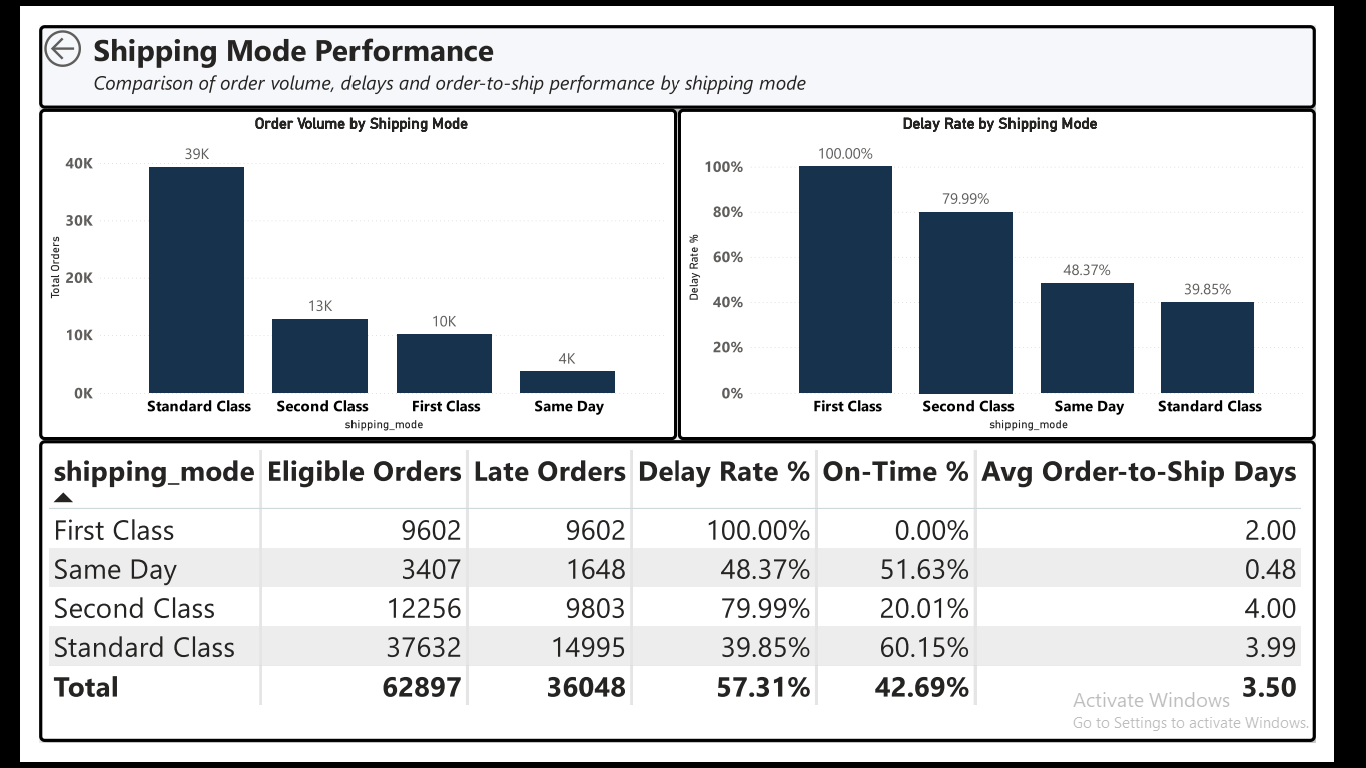

The dashboard page shown, as its layout file describes it:
{"tool":"powerbi","page":{"name":"Shipping Mode Performance","canvas":[1600,900],"ordinal":2},"visuals":[{"type":"shape","box":[0,0,1600,105.5],"z":0},{"type":"tableEx","fields":{"Values":["fact_orders.shipping_mode","fact_orders.Eligible Orders","fact_orders.Late Orders","fact_orders.Delay Rate %","fact_orders.On-Time %","fact_orders.Avg Order-to-Ship Days"]},"box":[0,520.2,1600,379],"z":1000},{"type":"clusteredColumnChart","title":"Order Volume by Shipping Mode","fields":{"Category":["fact_orders.shipping_mode"],"Y":["fact_orders.Total Orders"]},"box":[0,105.5,799.1,414.7],"z":2000},{"type":"clusteredColumnChart","title":"Delay Rate by Shipping Mode","fields":{"Category":["fact_orders.shipping_mode"],"Y":["fact_orders.Delay Rate %"]},"box":[800.9,105.5,799.1,414.7],"z":3000},{"type":"actionButton","box":[0,0,62.9,58.6],"z":4000},{"type":"textbox","box":[62.9,0,916.7,93],"z":5000}]}

Visuals, with their boxes in screenshot pixels (x1, y1, x2, y2), scaled from the page's 1600x900 canvas onto the 1366x768 screenshot:
shape: bbox=(0, 0, 1365, 90)
tableEx - fact_orders.shipping_mode x fact_orders.Eligible Orders: bbox=(0, 444, 1365, 767)
"Order Volume by Shipping Mode" clusteredColumnChart: bbox=(0, 90, 682, 444)
"Delay Rate by Shipping Mode" clusteredColumnChart: bbox=(684, 90, 1365, 444)
actionButton: bbox=(0, 0, 54, 50)
textbox: bbox=(54, 0, 836, 79)
